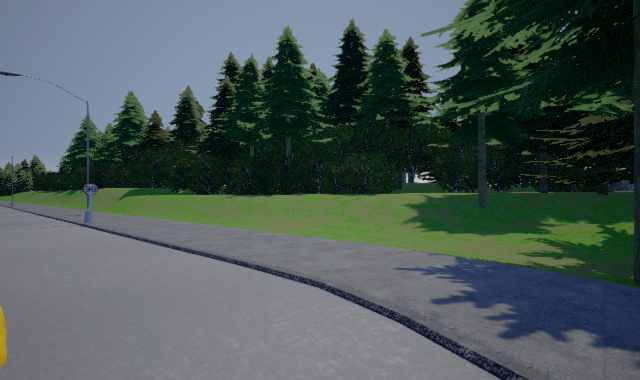traffic_sign: (83, 182, 98, 196)
